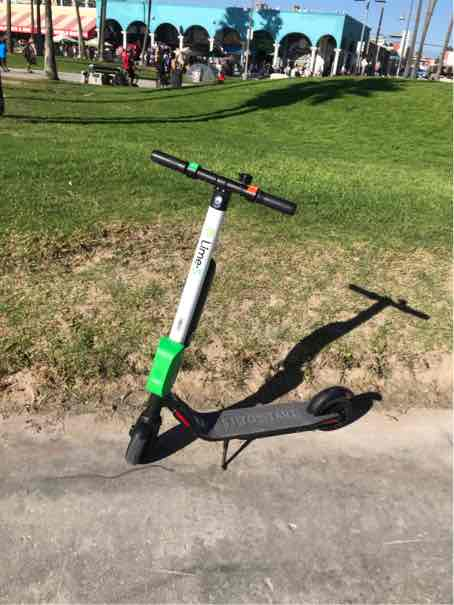scooter: (126, 150, 368, 485)
